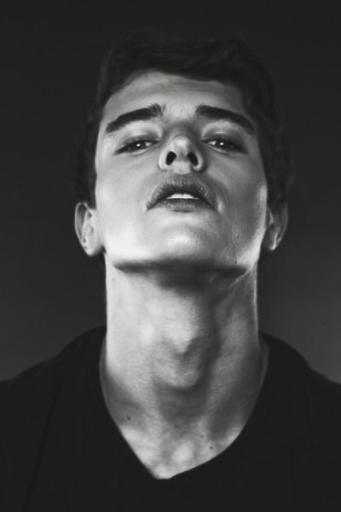left_eye: (206, 138, 246, 158)
left_lip_corner: (204, 196, 221, 217)
right_eye: (113, 137, 157, 161)
right_lip_corner: (145, 198, 161, 217)
